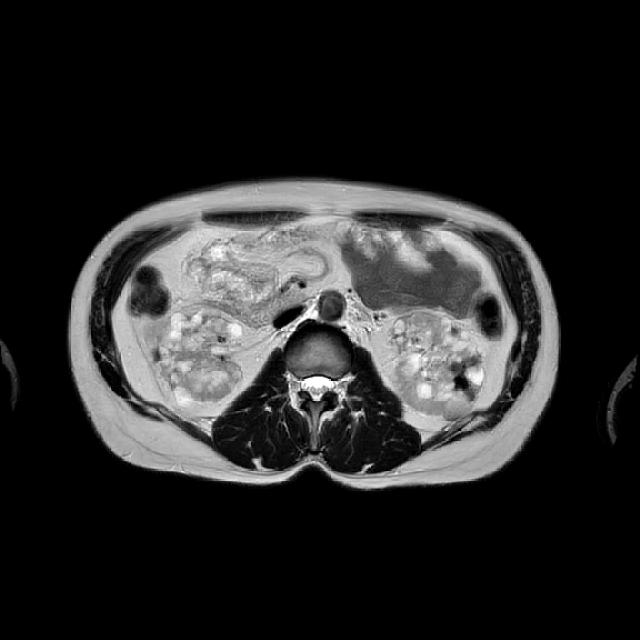sag: (157, 311, 245, 408)
sol: (392, 310, 485, 420)
